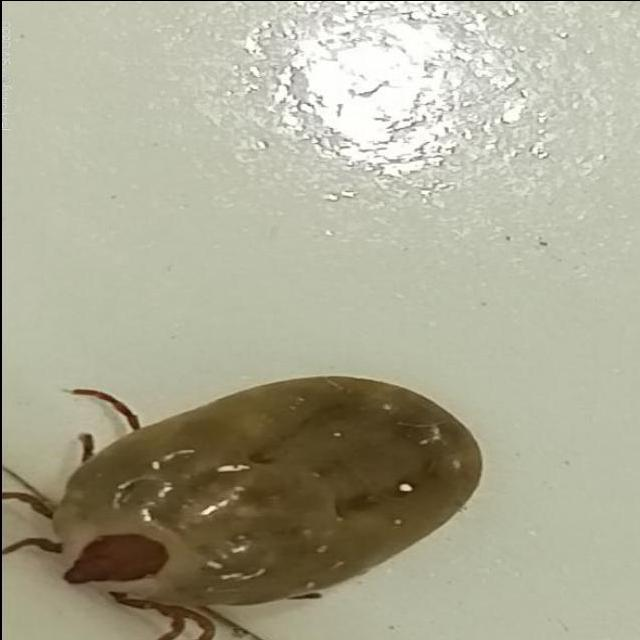Rhipicephalus Sanguineus-F-Fed: (0, 372, 481, 640)
